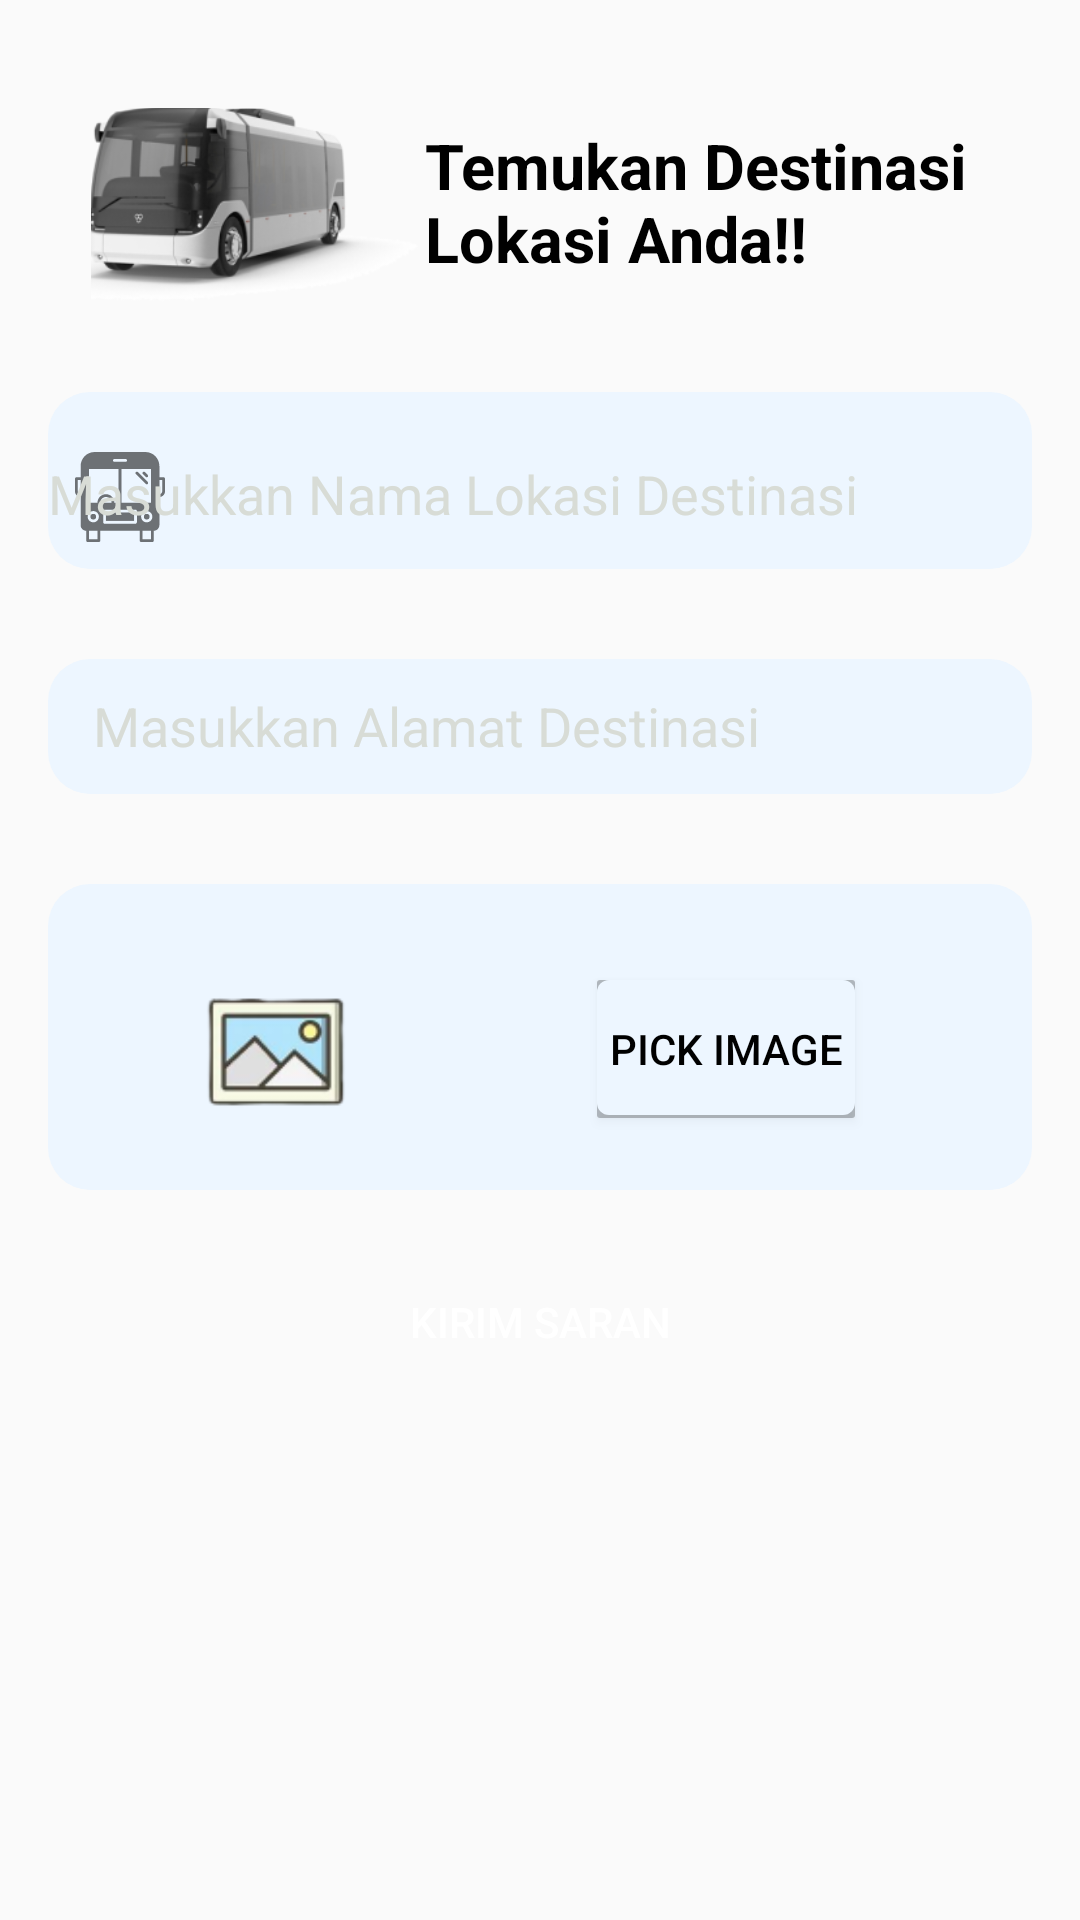

Icon bounding boxes for this 1080 x 1920 phone screenshot, format rect(x1, y1, x2, y2):
imges: rect(208, 998, 344, 1106)
